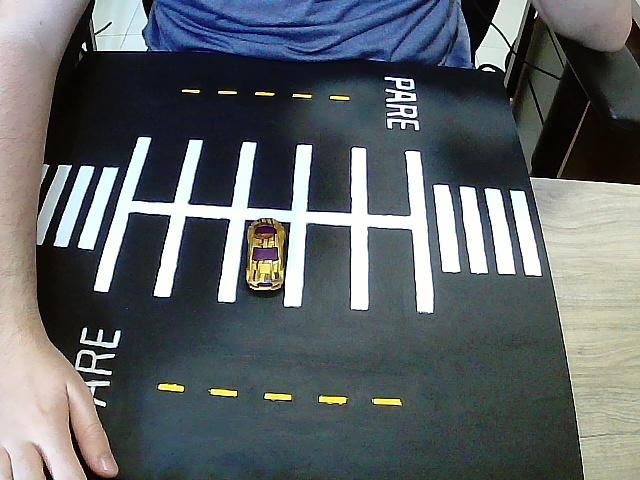Carro: (244, 219, 288, 294)
